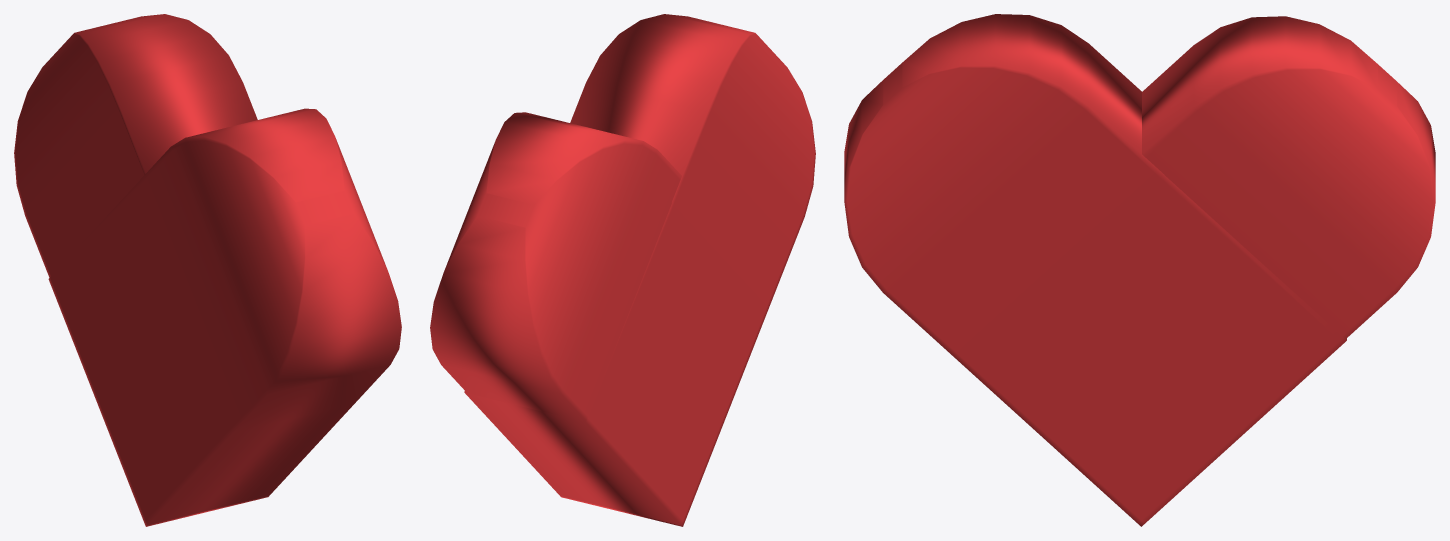
Rendered from corazon.glb.
3 renders of one model, left to right at view 1: azimuth 30°, elevation 25°; view 2: azimuth 150°, elevation 25°; view 3: azimuth 270°, elevation 25°, orthographic. The views are drawn at different scales.
Visible parts, largest first — view 1: Cube.001; view 2: Cube.001; view 3: Cube.001.
Boxes of the visible parts, box(x1,y1,x2,y2) form: Cube.001: box(14, 14, 401, 526); Cube.001: box(430, 14, 815, 526); Cube.001: box(844, 14, 1435, 526).
Size of the model in its own units: 0.5568 by 1.88 by 2.21.
